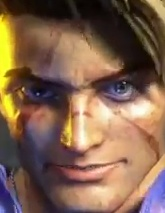kevin: (10, 15, 163, 212)
